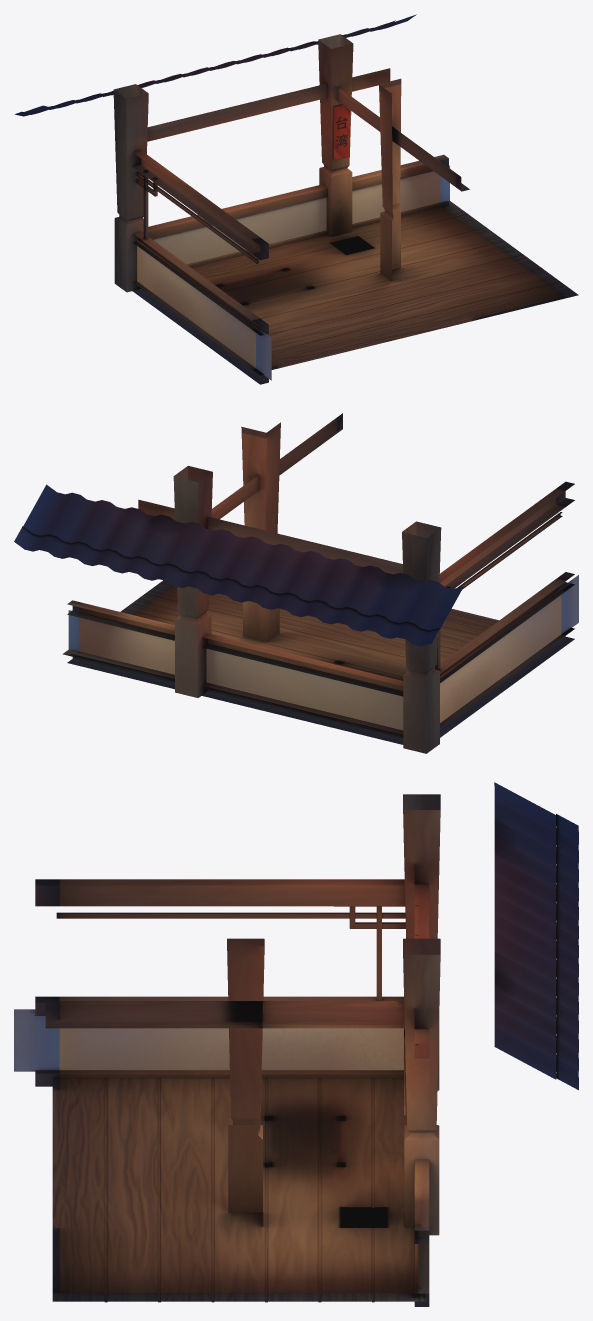
The model's file is Space.glb.
The picture shows the model from 3 angles, top to bottom: view 1: azimuth 30°, elevation 25°; view 2: azimuth 150°, elevation 25°; view 3: azimuth 270°, elevation 25°; orthographic projection. The views are drawn at different scales.
Visible parts, largest first — view 1: Space; view 2: Space; view 3: Space.
Part boxes in pixels (bbox=[...]): Space: bbox=[14, 14, 578, 384]; Space: bbox=[14, 413, 578, 753]; Space: bbox=[14, 782, 578, 1306].
Size of the model in its own units: 8.3 by 4.02 by 7.31.
4 materials, 4 textured.
